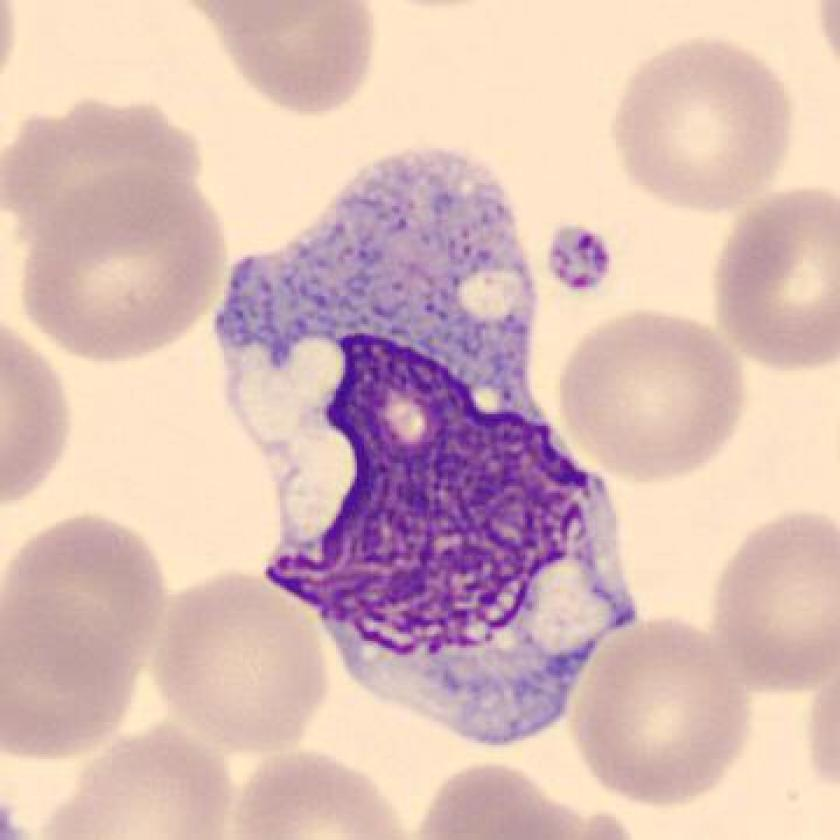monocyte: (188, 126, 659, 755)
